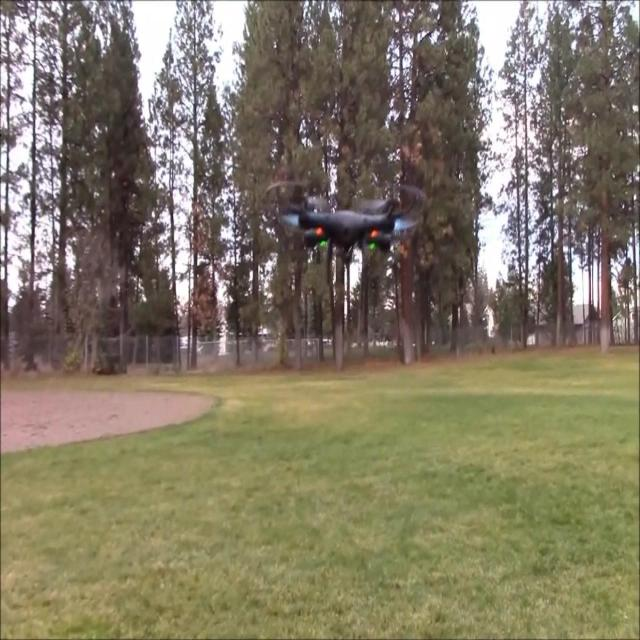drone: (267, 174, 431, 273)
